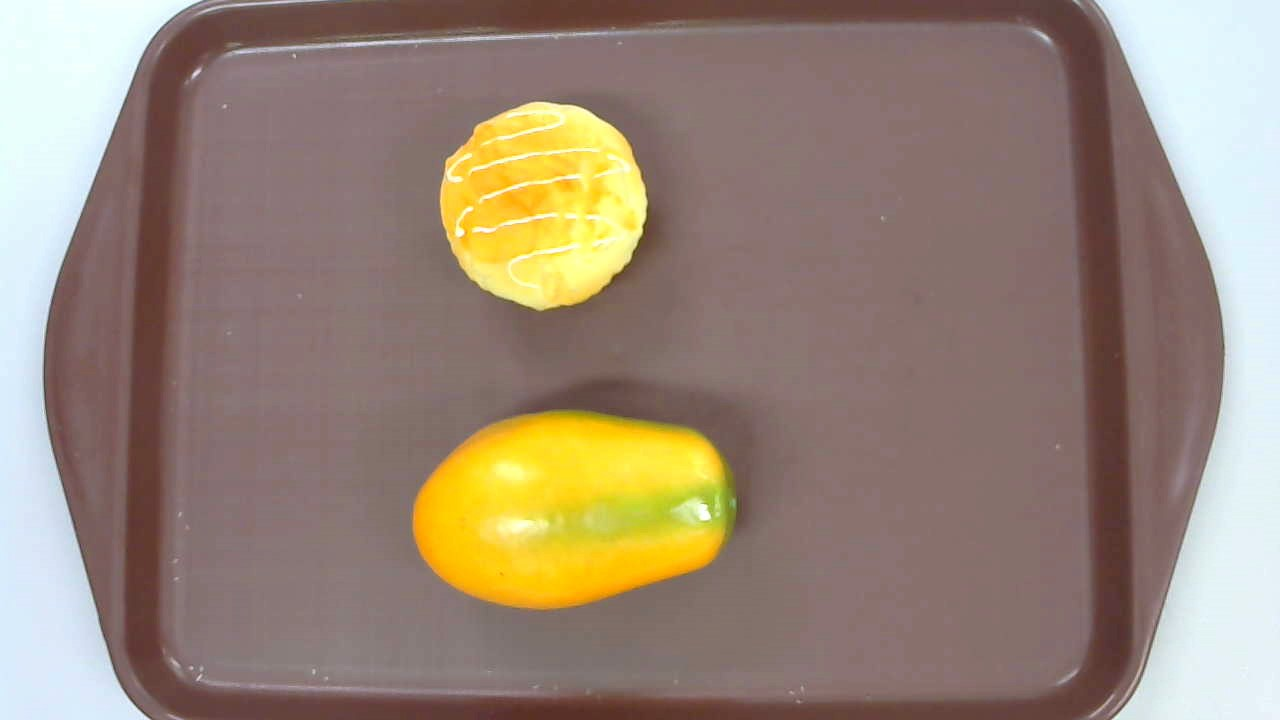cupcake: (438, 101, 649, 312)
papya: (412, 410, 737, 612)
